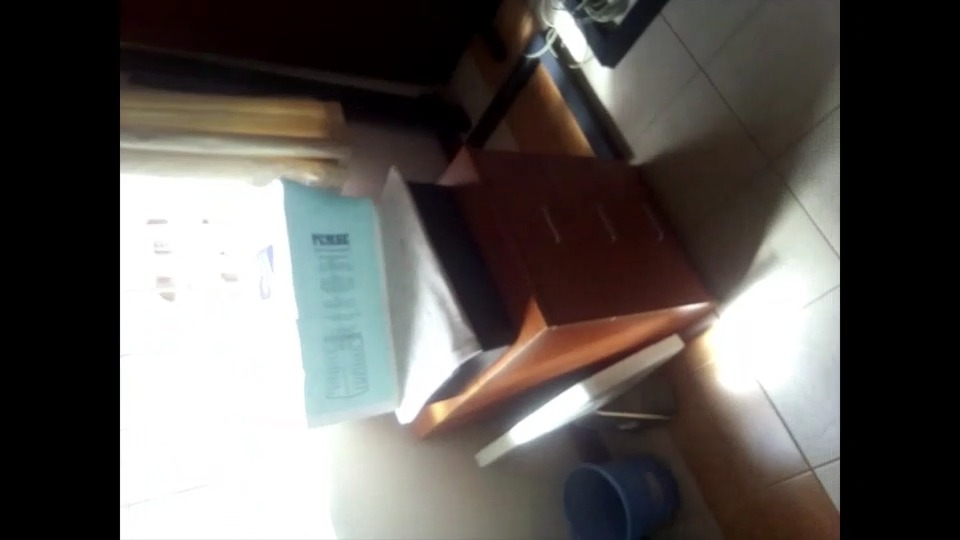wheat_flour_blue_label: (259, 179, 397, 416)
